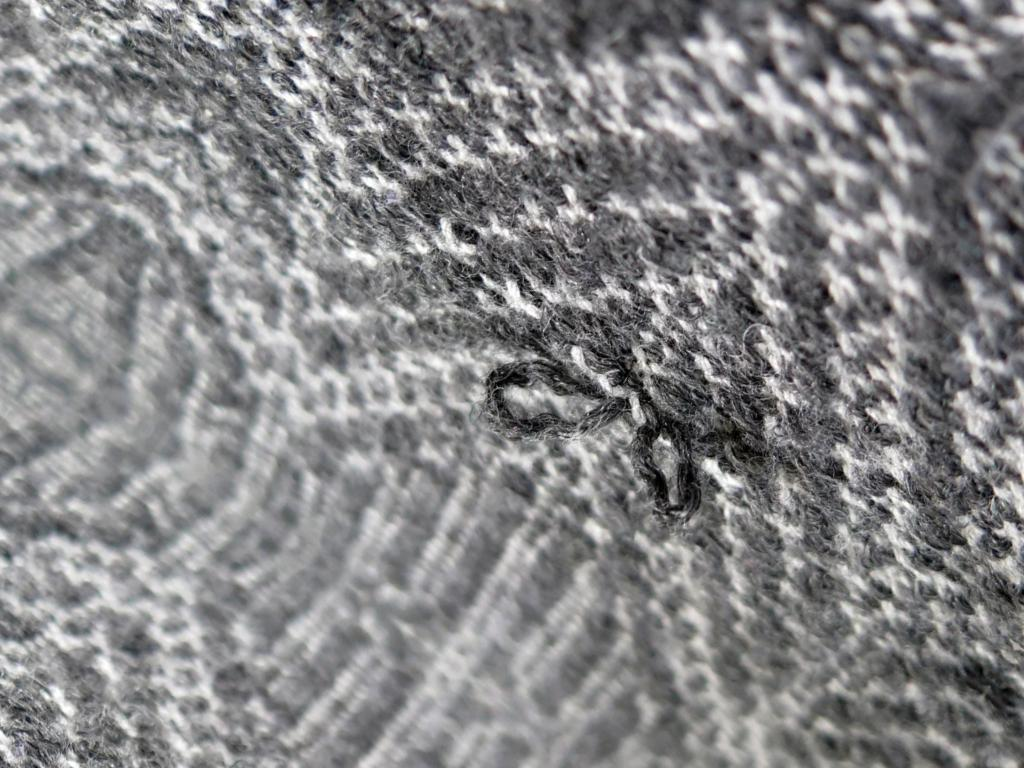snag: (473, 336, 638, 440), (621, 408, 713, 528)
